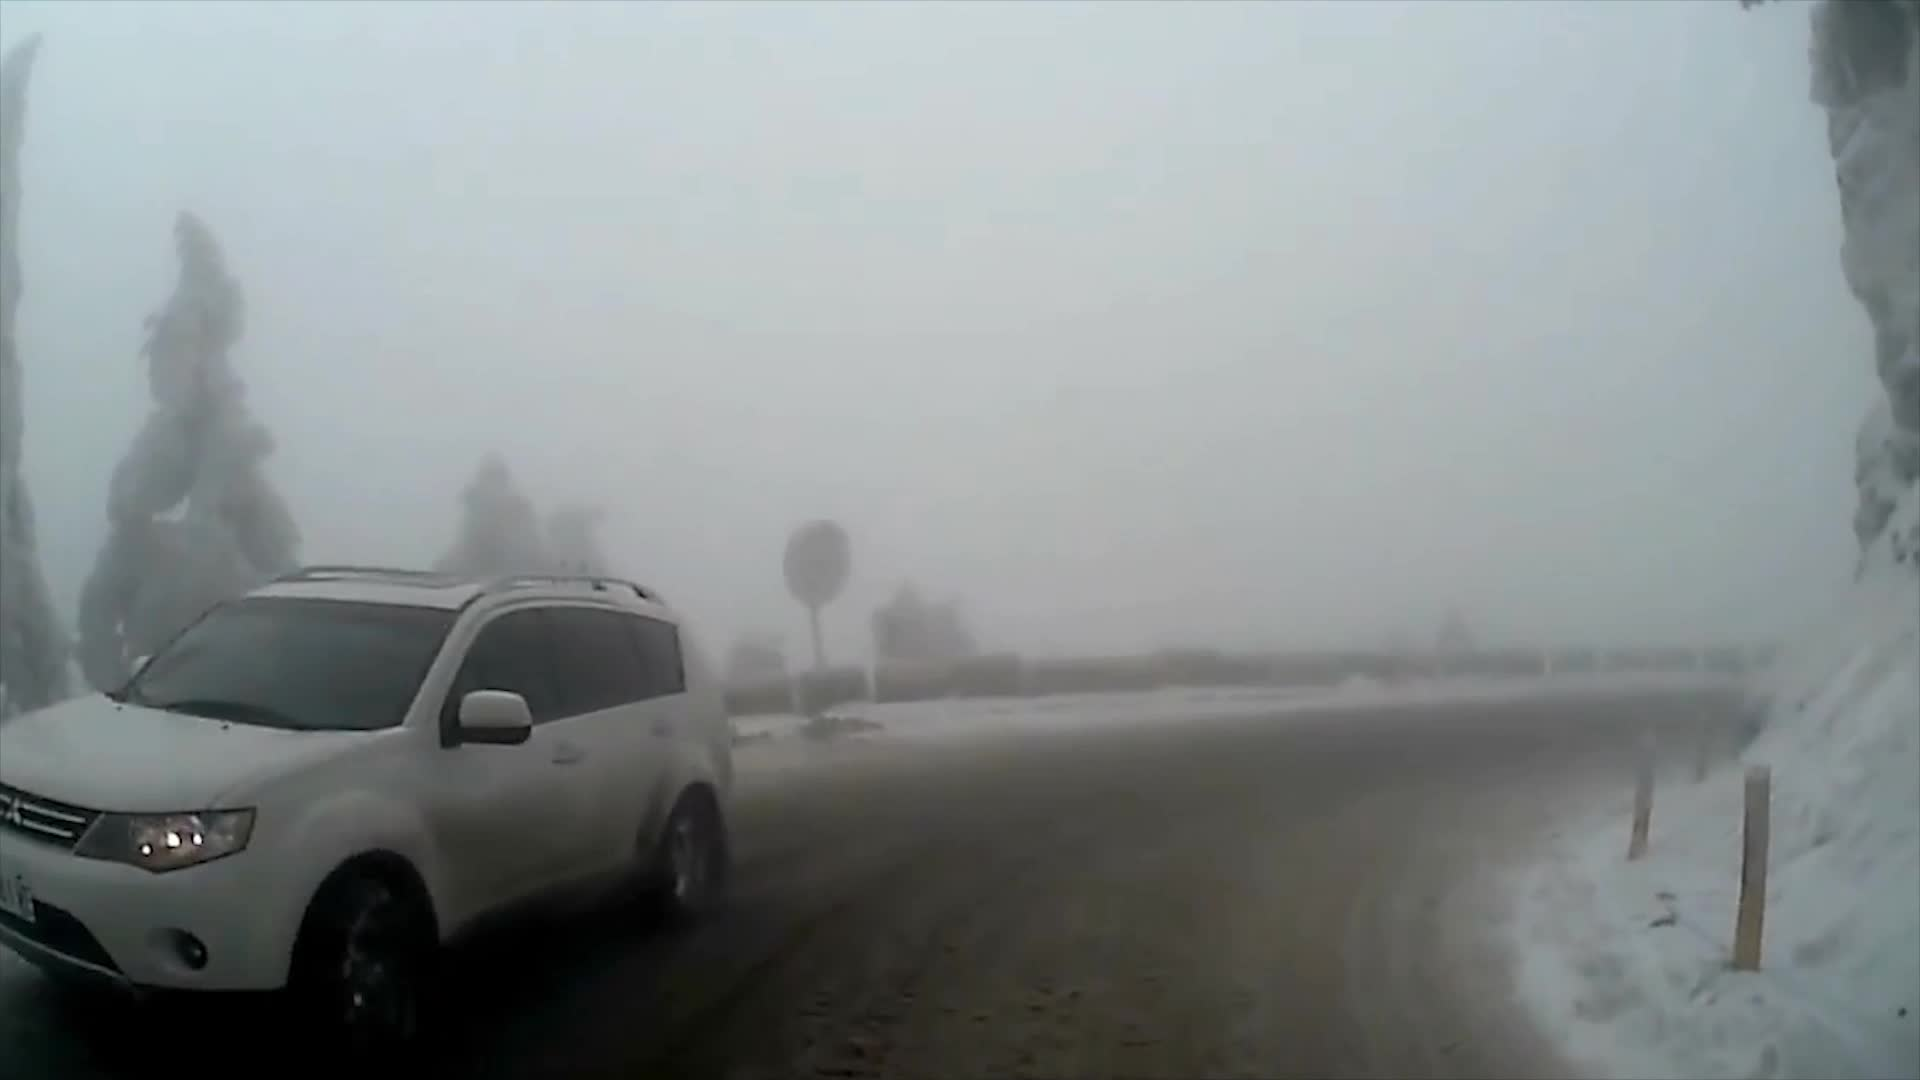vehicle: (0, 560, 735, 1080)
